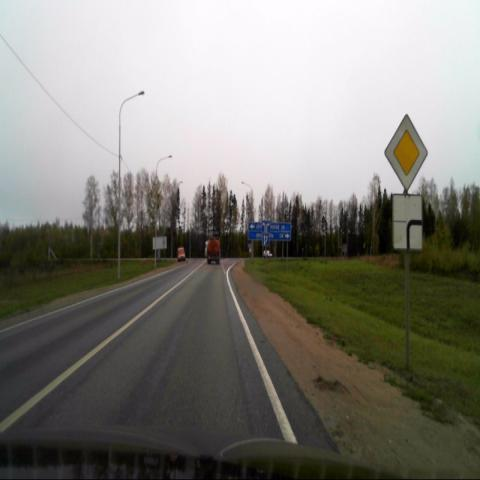8_13: (392, 194, 422, 250)
